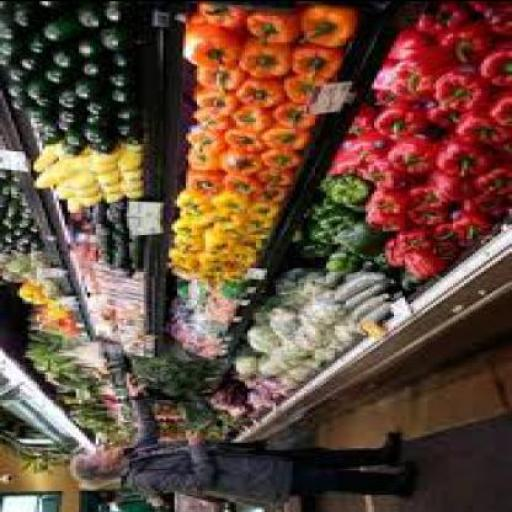biodegradable: (388, 44, 456, 98), (130, 352, 213, 391), (180, 15, 240, 66), (295, 291, 335, 356), (430, 130, 489, 172), (431, 69, 492, 109), (26, 328, 96, 362), (385, 26, 436, 72), (433, 19, 490, 59), (298, 0, 352, 42), (371, 100, 430, 138), (448, 108, 506, 144), (330, 219, 388, 254), (276, 334, 321, 379), (234, 40, 292, 74), (351, 127, 386, 183), (242, 6, 296, 41), (383, 136, 431, 172), (340, 276, 394, 308), (412, 1, 468, 30), (304, 196, 354, 228), (287, 42, 337, 74), (102, 198, 124, 270), (328, 271, 382, 300), (472, 152, 510, 193), (31, 362, 101, 384), (31, 156, 79, 188), (448, 202, 490, 236), (267, 100, 318, 128), (169, 394, 211, 428), (62, 392, 104, 426), (400, 242, 444, 274), (327, 172, 371, 204), (341, 289, 385, 321), (475, 41, 510, 81), (231, 76, 281, 104), (191, 1, 245, 26), (298, 294, 330, 336), (273, 263, 304, 304), (90, 199, 109, 265), (20, 139, 59, 171), (281, 76, 332, 100), (422, 169, 464, 198), (205, 277, 234, 319), (361, 160, 405, 186), (366, 185, 411, 210), (225, 103, 270, 128), (188, 90, 239, 112), (206, 208, 248, 234), (363, 206, 411, 228), (0, 226, 39, 253), (220, 124, 262, 149), (481, 86, 510, 122), (419, 100, 459, 126), (202, 380, 242, 406), (191, 67, 242, 87), (242, 380, 276, 410), (220, 146, 259, 172), (216, 169, 258, 193), (95, 24, 135, 49), (402, 182, 447, 204), (354, 298, 392, 324), (329, 145, 363, 174), (343, 98, 372, 132), (464, 188, 501, 214), (5, 1, 43, 26), (391, 226, 430, 250), (40, 13, 76, 39), (22, 72, 51, 104), (101, 0, 138, 25), (406, 202, 448, 224), (206, 188, 248, 210), (25, 310, 67, 332), (242, 323, 276, 350), (182, 145, 220, 169), (262, 129, 310, 148), (172, 187, 208, 212), (180, 122, 220, 144), (321, 247, 360, 269), (113, 139, 141, 169), (0, 197, 31, 224), (186, 106, 230, 125), (326, 322, 357, 348), (180, 169, 220, 189), (288, 236, 330, 255), (428, 221, 464, 243), (259, 146, 299, 165), (0, 1, 21, 37), (70, 2, 101, 26), (25, 28, 56, 52), (380, 238, 408, 264), (247, 182, 287, 200), (268, 304, 292, 334), (202, 228, 234, 250), (81, 115, 110, 139), (11, 278, 42, 300), (171, 206, 206, 225), (484, 6, 509, 32), (166, 214, 200, 233), (231, 346, 255, 372), (298, 221, 332, 239), (255, 165, 290, 182), (166, 247, 195, 267), (194, 246, 226, 264), (20, 51, 50, 70), (219, 277, 247, 297), (236, 225, 265, 244), (166, 232, 202, 247), (228, 245, 258, 263), (102, 68, 132, 86), (254, 351, 278, 373), (68, 167, 92, 189), (67, 243, 102, 258), (247, 198, 276, 216), (109, 119, 138, 137), (73, 37, 102, 55), (126, 234, 141, 268), (42, 64, 70, 82), (90, 152, 118, 170), (276, 369, 295, 395), (306, 266, 324, 293), (469, 1, 509, 13), (48, 46, 73, 65), (70, 80, 99, 96), (40, 295, 65, 313), (53, 184, 98, 194), (0, 168, 17, 194), (64, 193, 86, 213), (104, 86, 135, 100), (54, 88, 78, 106), (62, 122, 84, 141), (395, 271, 419, 288), (105, 48, 129, 65), (82, 96, 106, 113), (28, 102, 48, 122), (64, 212, 86, 230), (195, 262, 219, 278), (113, 102, 137, 118), (3, 65, 28, 80), (315, 172, 332, 194), (242, 215, 270, 228), (79, 56, 101, 72), (96, 168, 118, 184), (0, 35, 20, 52), (56, 141, 78, 156), (321, 269, 340, 286), (40, 121, 56, 141), (115, 167, 143, 178), (258, 371, 274, 390), (85, 140, 109, 152), (54, 106, 78, 118), (202, 206, 224, 219), (220, 262, 242, 275), (222, 401, 244, 414), (8, 95, 30, 107), (360, 257, 380, 269), (3, 80, 23, 92), (36, 0, 74, 6), (98, 184, 120, 194), (121, 178, 141, 188), (121, 187, 141, 197), (0, 54, 17, 64), (175, 278, 186, 293), (338, 269, 354, 279), (382, 265, 400, 273), (242, 376, 253, 386), (54, 118, 64, 128)
